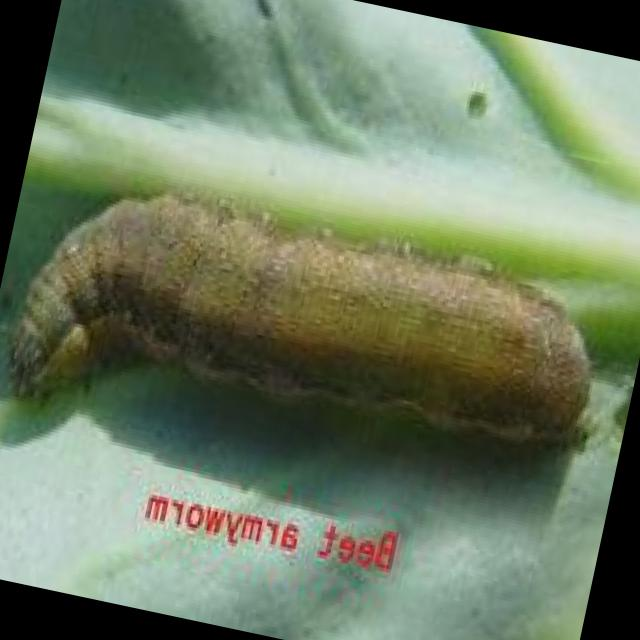armyworm: (1, 143, 635, 548)
